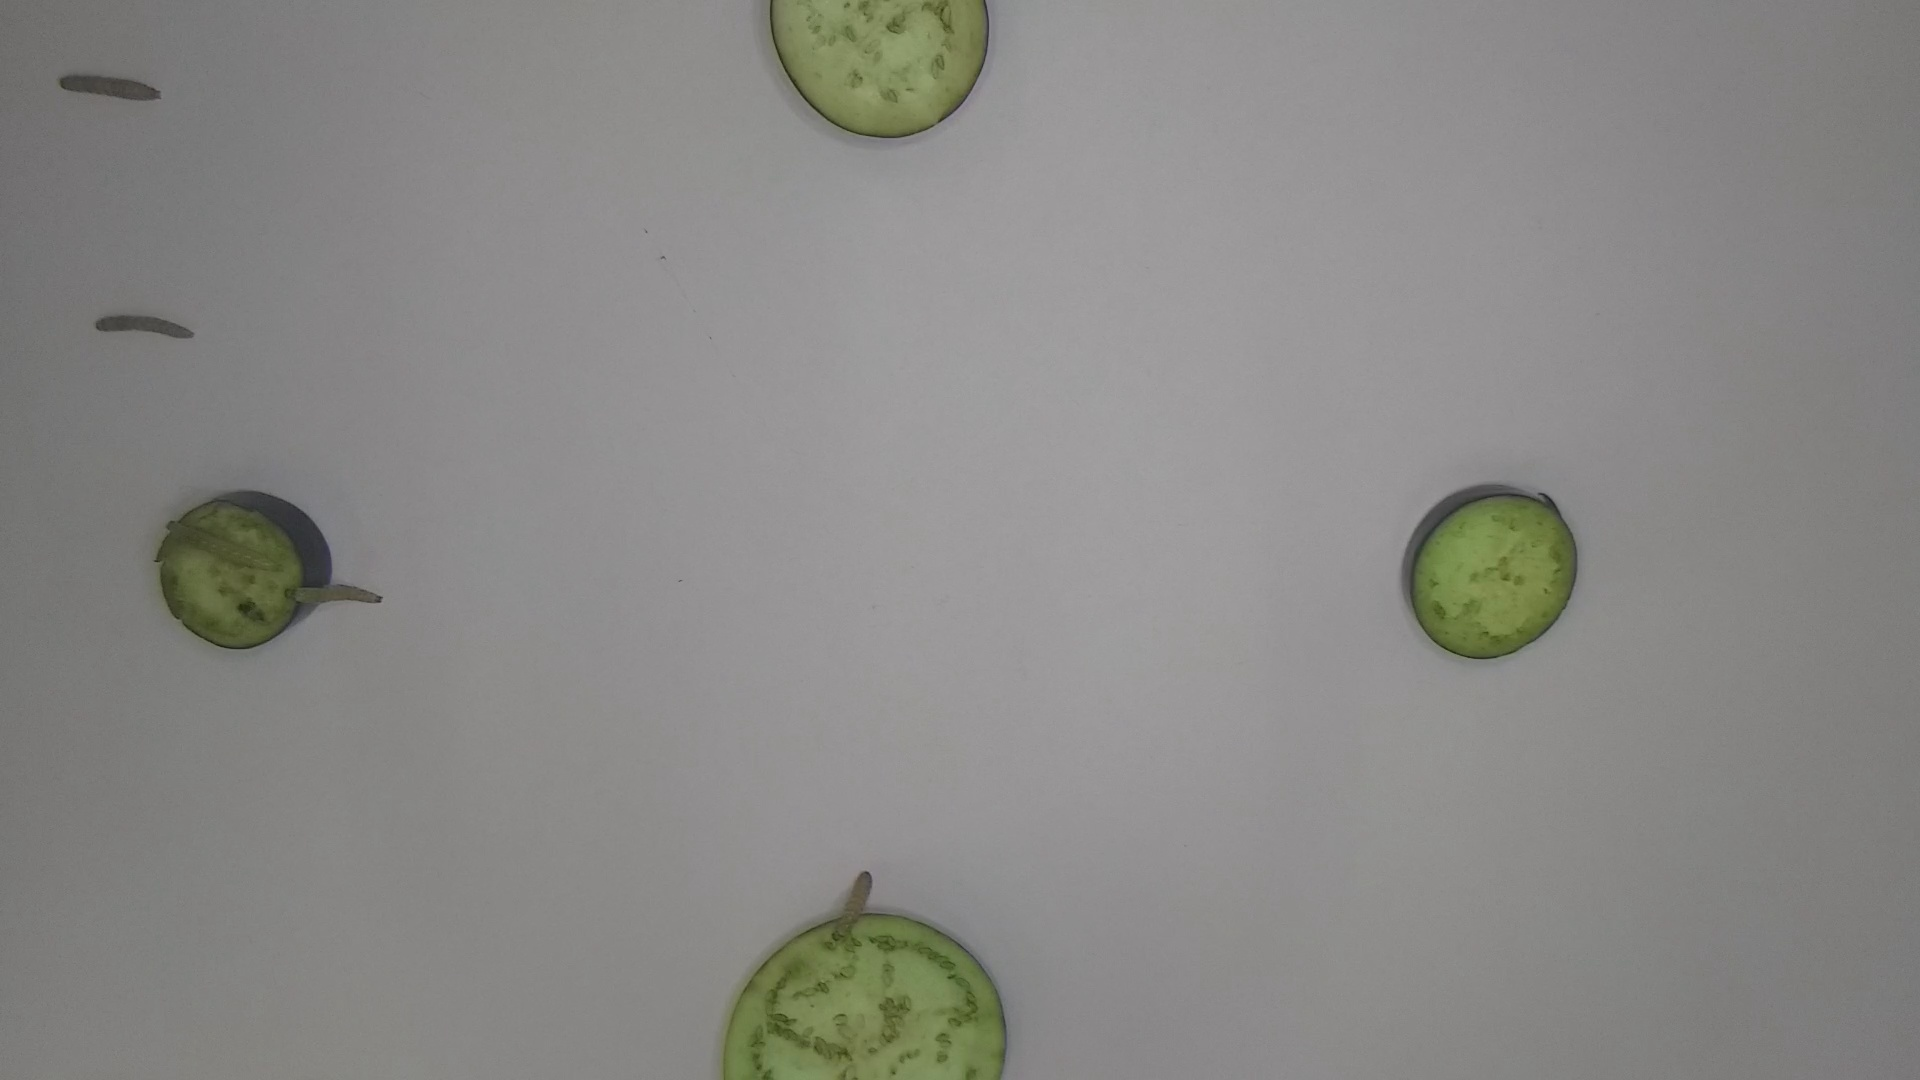efsb: (164, 516, 278, 578), (53, 69, 167, 105), (87, 309, 198, 344), (284, 576, 386, 615), (829, 865, 878, 942)
eggplant: (716, 909, 1015, 1080), (1398, 476, 1586, 671), (758, 1, 996, 146), (157, 487, 336, 654)
